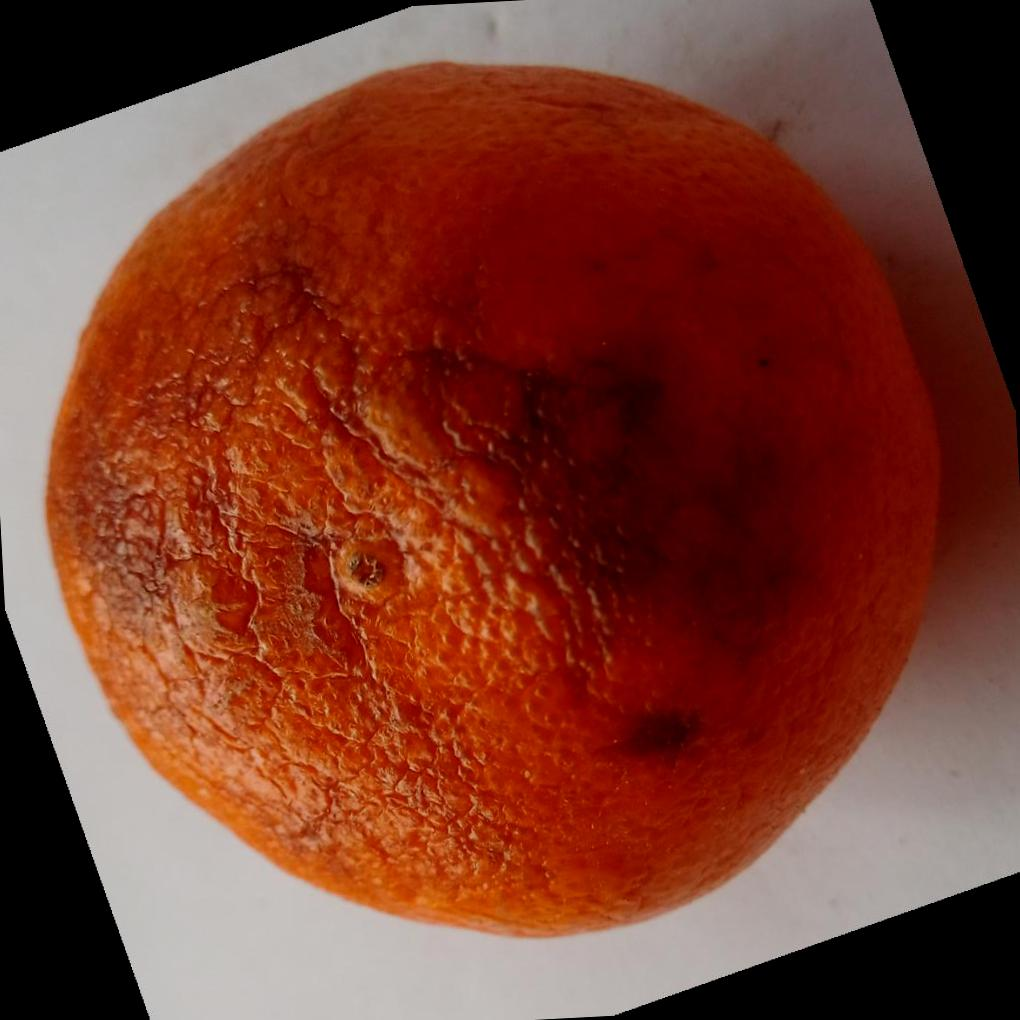FreshOrange: (43, 58, 947, 941)
